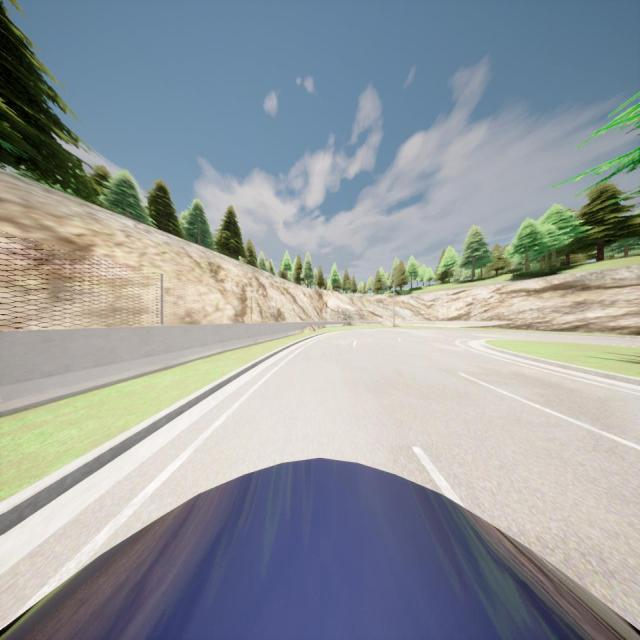Vehicle: (0, 457, 638, 640)
